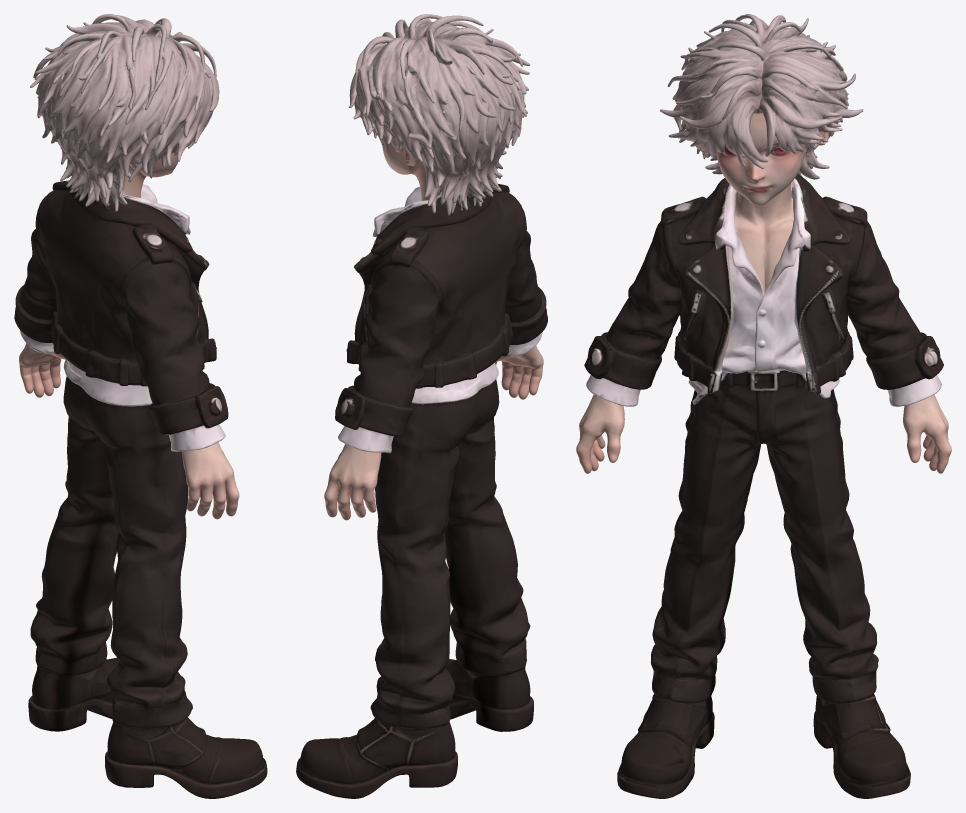
The model's file is near.glb.
3 views of the same model, side by side, from view 1: azimuth 30°, elevation 25°; view 2: azimuth 150°, elevation 25°; view 3: azimuth 270°, elevation 25° (orthographic).
Parts seen in each view (by area): view 1: tripo_node_11320632-9dbc-489b-8da7-b8248162fe40; view 2: tripo_node_11320632-9dbc-489b-8da7-b8248162fe40; view 3: tripo_node_11320632-9dbc-489b-8da7-b8248162fe40.
Boxes of the visible parts, left/top/right/bottom form: tripo_node_11320632-9dbc-489b-8da7-b8248162fe40: left=14, top=14, right=267, bottom=798; tripo_node_11320632-9dbc-489b-8da7-b8248162fe40: left=296, top=14, right=547, bottom=798; tripo_node_11320632-9dbc-489b-8da7-b8248162fe40: left=576, top=14, right=951, bottom=798.
Bounding box in the file's own units: 0.2324 × 0.9998 × 0.4591.
1 material, 1 textured.
